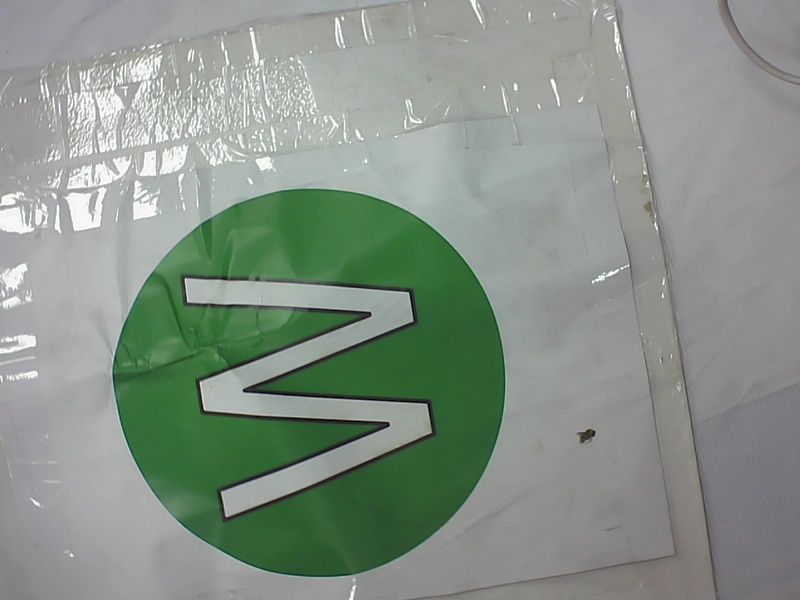areaB: (81, 185, 525, 584)
